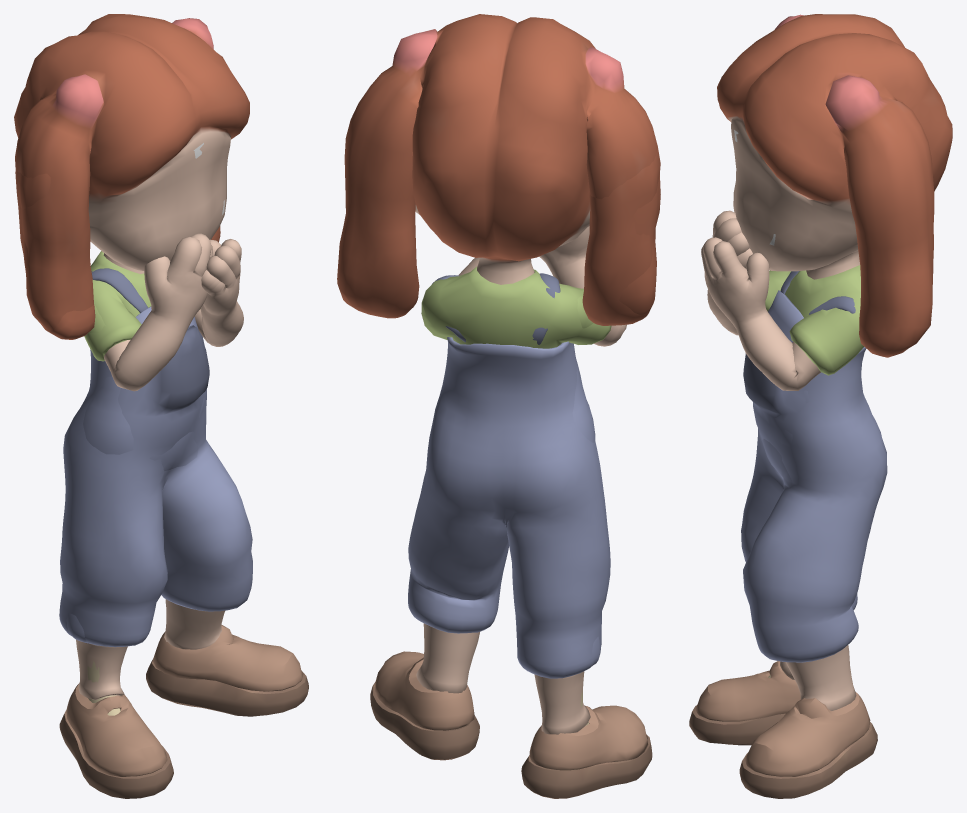
3 renders of one model, left to right at view 1: azimuth 30°, elevation 25°; view 2: azimuth 150°, elevation 25°; view 3: azimuth 270°, elevation 25°, orthographic. The views are drawn at different scales.
Visible parts, largest first — view 1: Arms.031; view 2: Arms.031; view 3: Arms.031.
Part boxes in pixels (x1,y1,x2,y2): Arms.031: (14,14,308,798); Arms.031: (337,14,660,798); Arms.031: (689,14,952,798).
Size of the model in its own units: 66.47 by 167 by 54.59.
